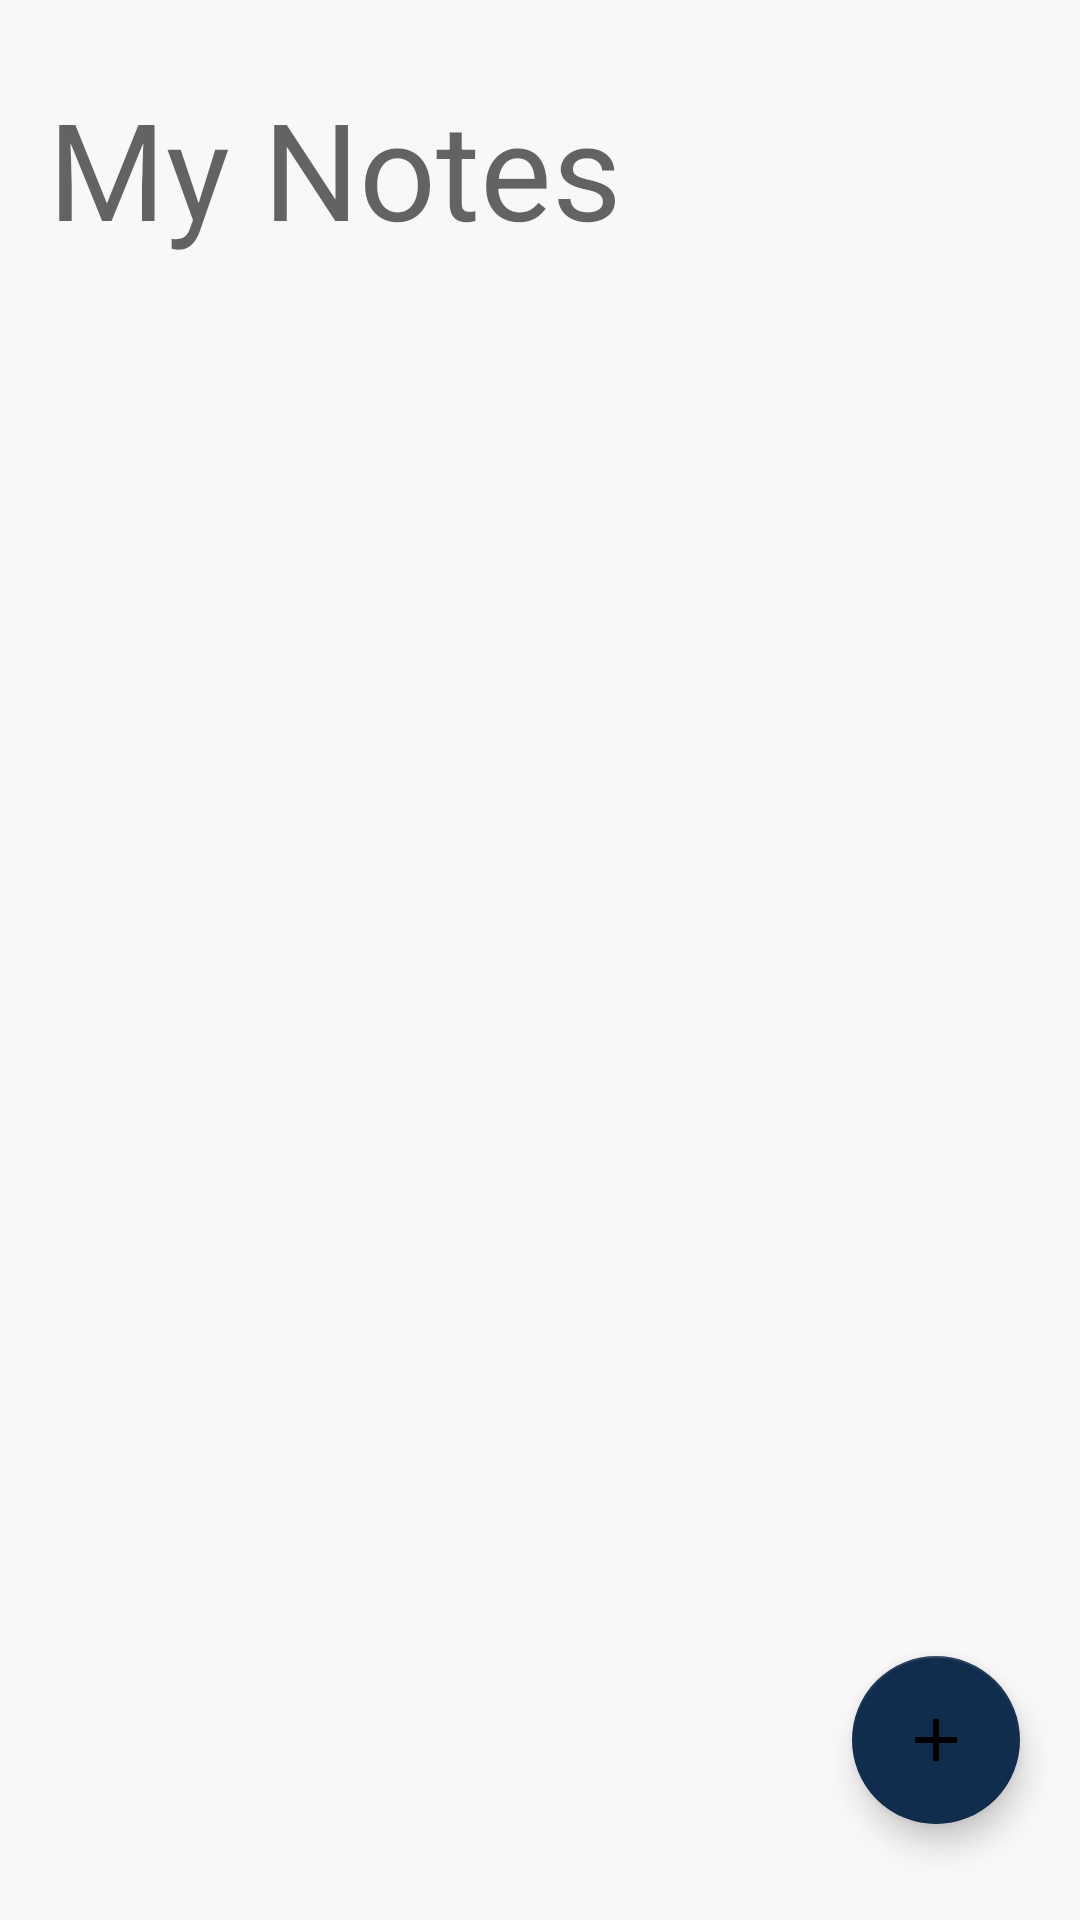

Screen size 1080 x 1920. Icon name, then its box in pixels as bbox=[x1, y1, x2, y2]:
add: bbox=[852, 1656, 1020, 1824]
